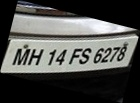character: (11, 48, 31, 65), (27, 48, 44, 66), (68, 47, 82, 65), (77, 47, 91, 64), (108, 46, 121, 63), (54, 48, 66, 65), (92, 47, 104, 64), (100, 47, 112, 62), (47, 48, 56, 66), (116, 45, 126, 61)
